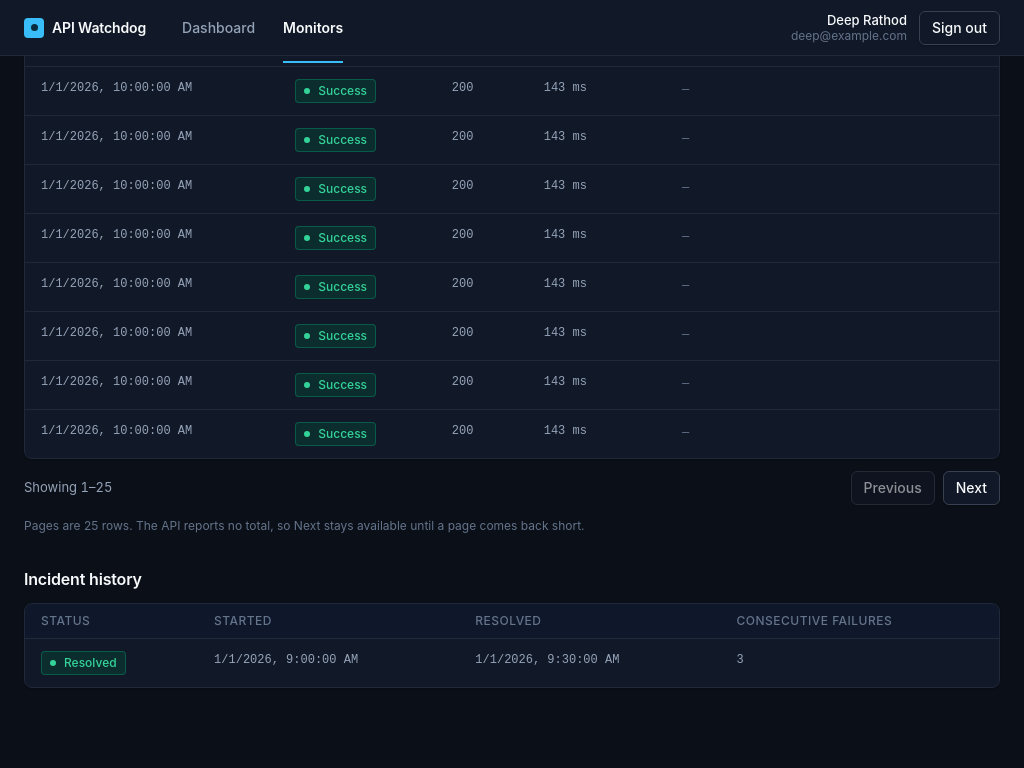
Test case: pagination › disables Previous on the first page and enables it after Next
(page scrolled)
expect the button with aria-label "previous page" is disabled: met, box left=851, top=471, right=935, bottom=505
What coordinates should you click on to do the following:
click the button with aria-label "next page"
I would click on:
 (971, 488)
Its box is left=943, top=471, right=1000, bottom=505.
(page scrolled)
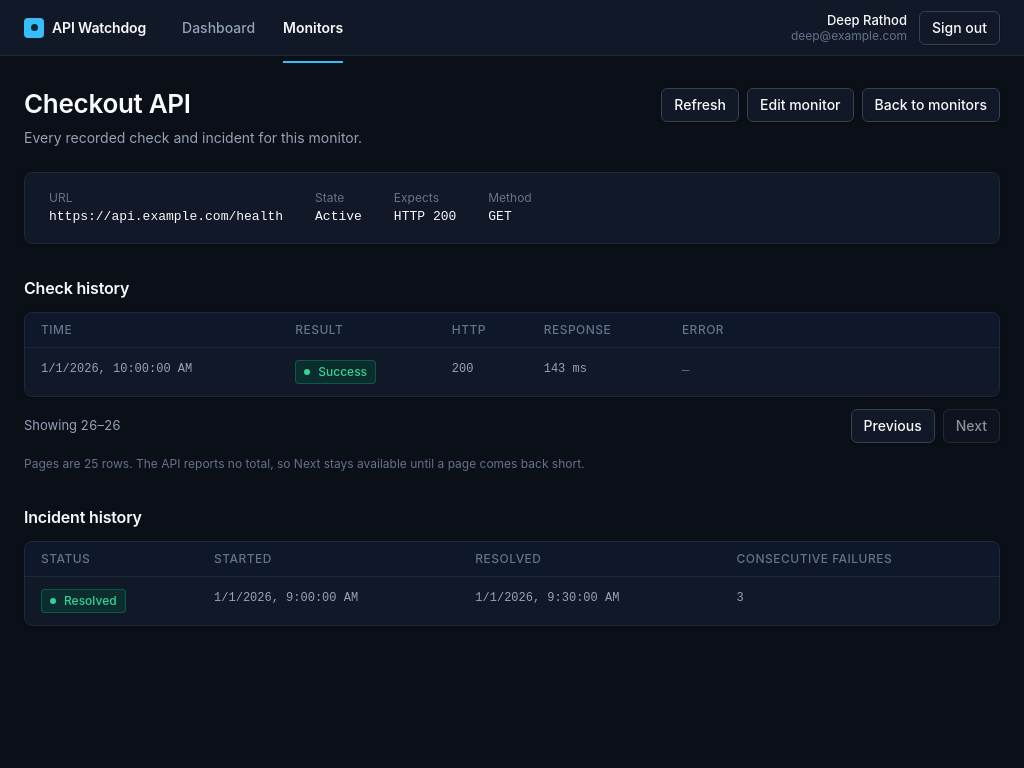
expect the button with aria-label "previous page" is enabled: met, box left=851, top=409, right=935, bottom=443
